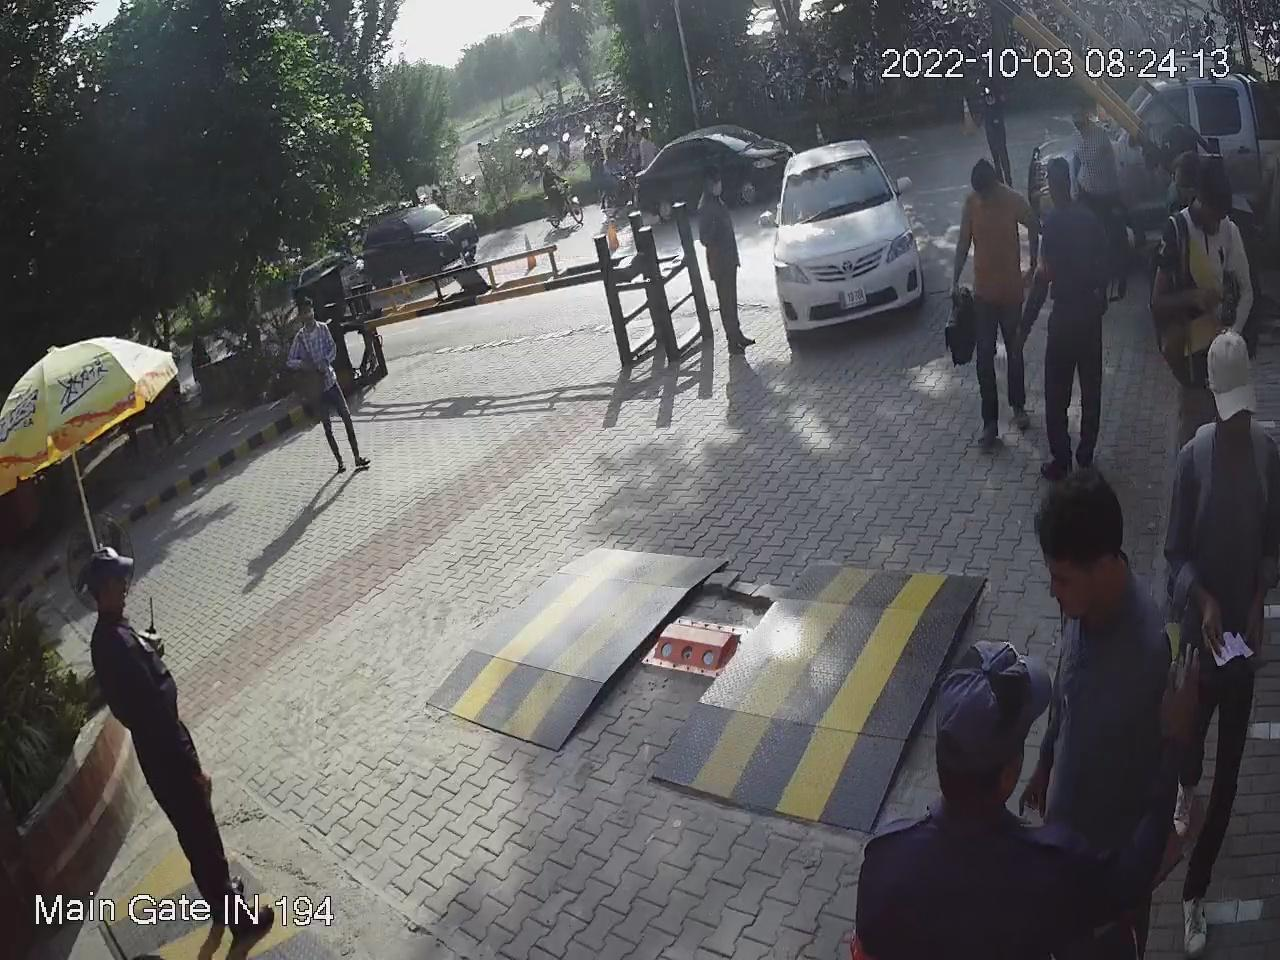windshield: (778, 148, 898, 226)
